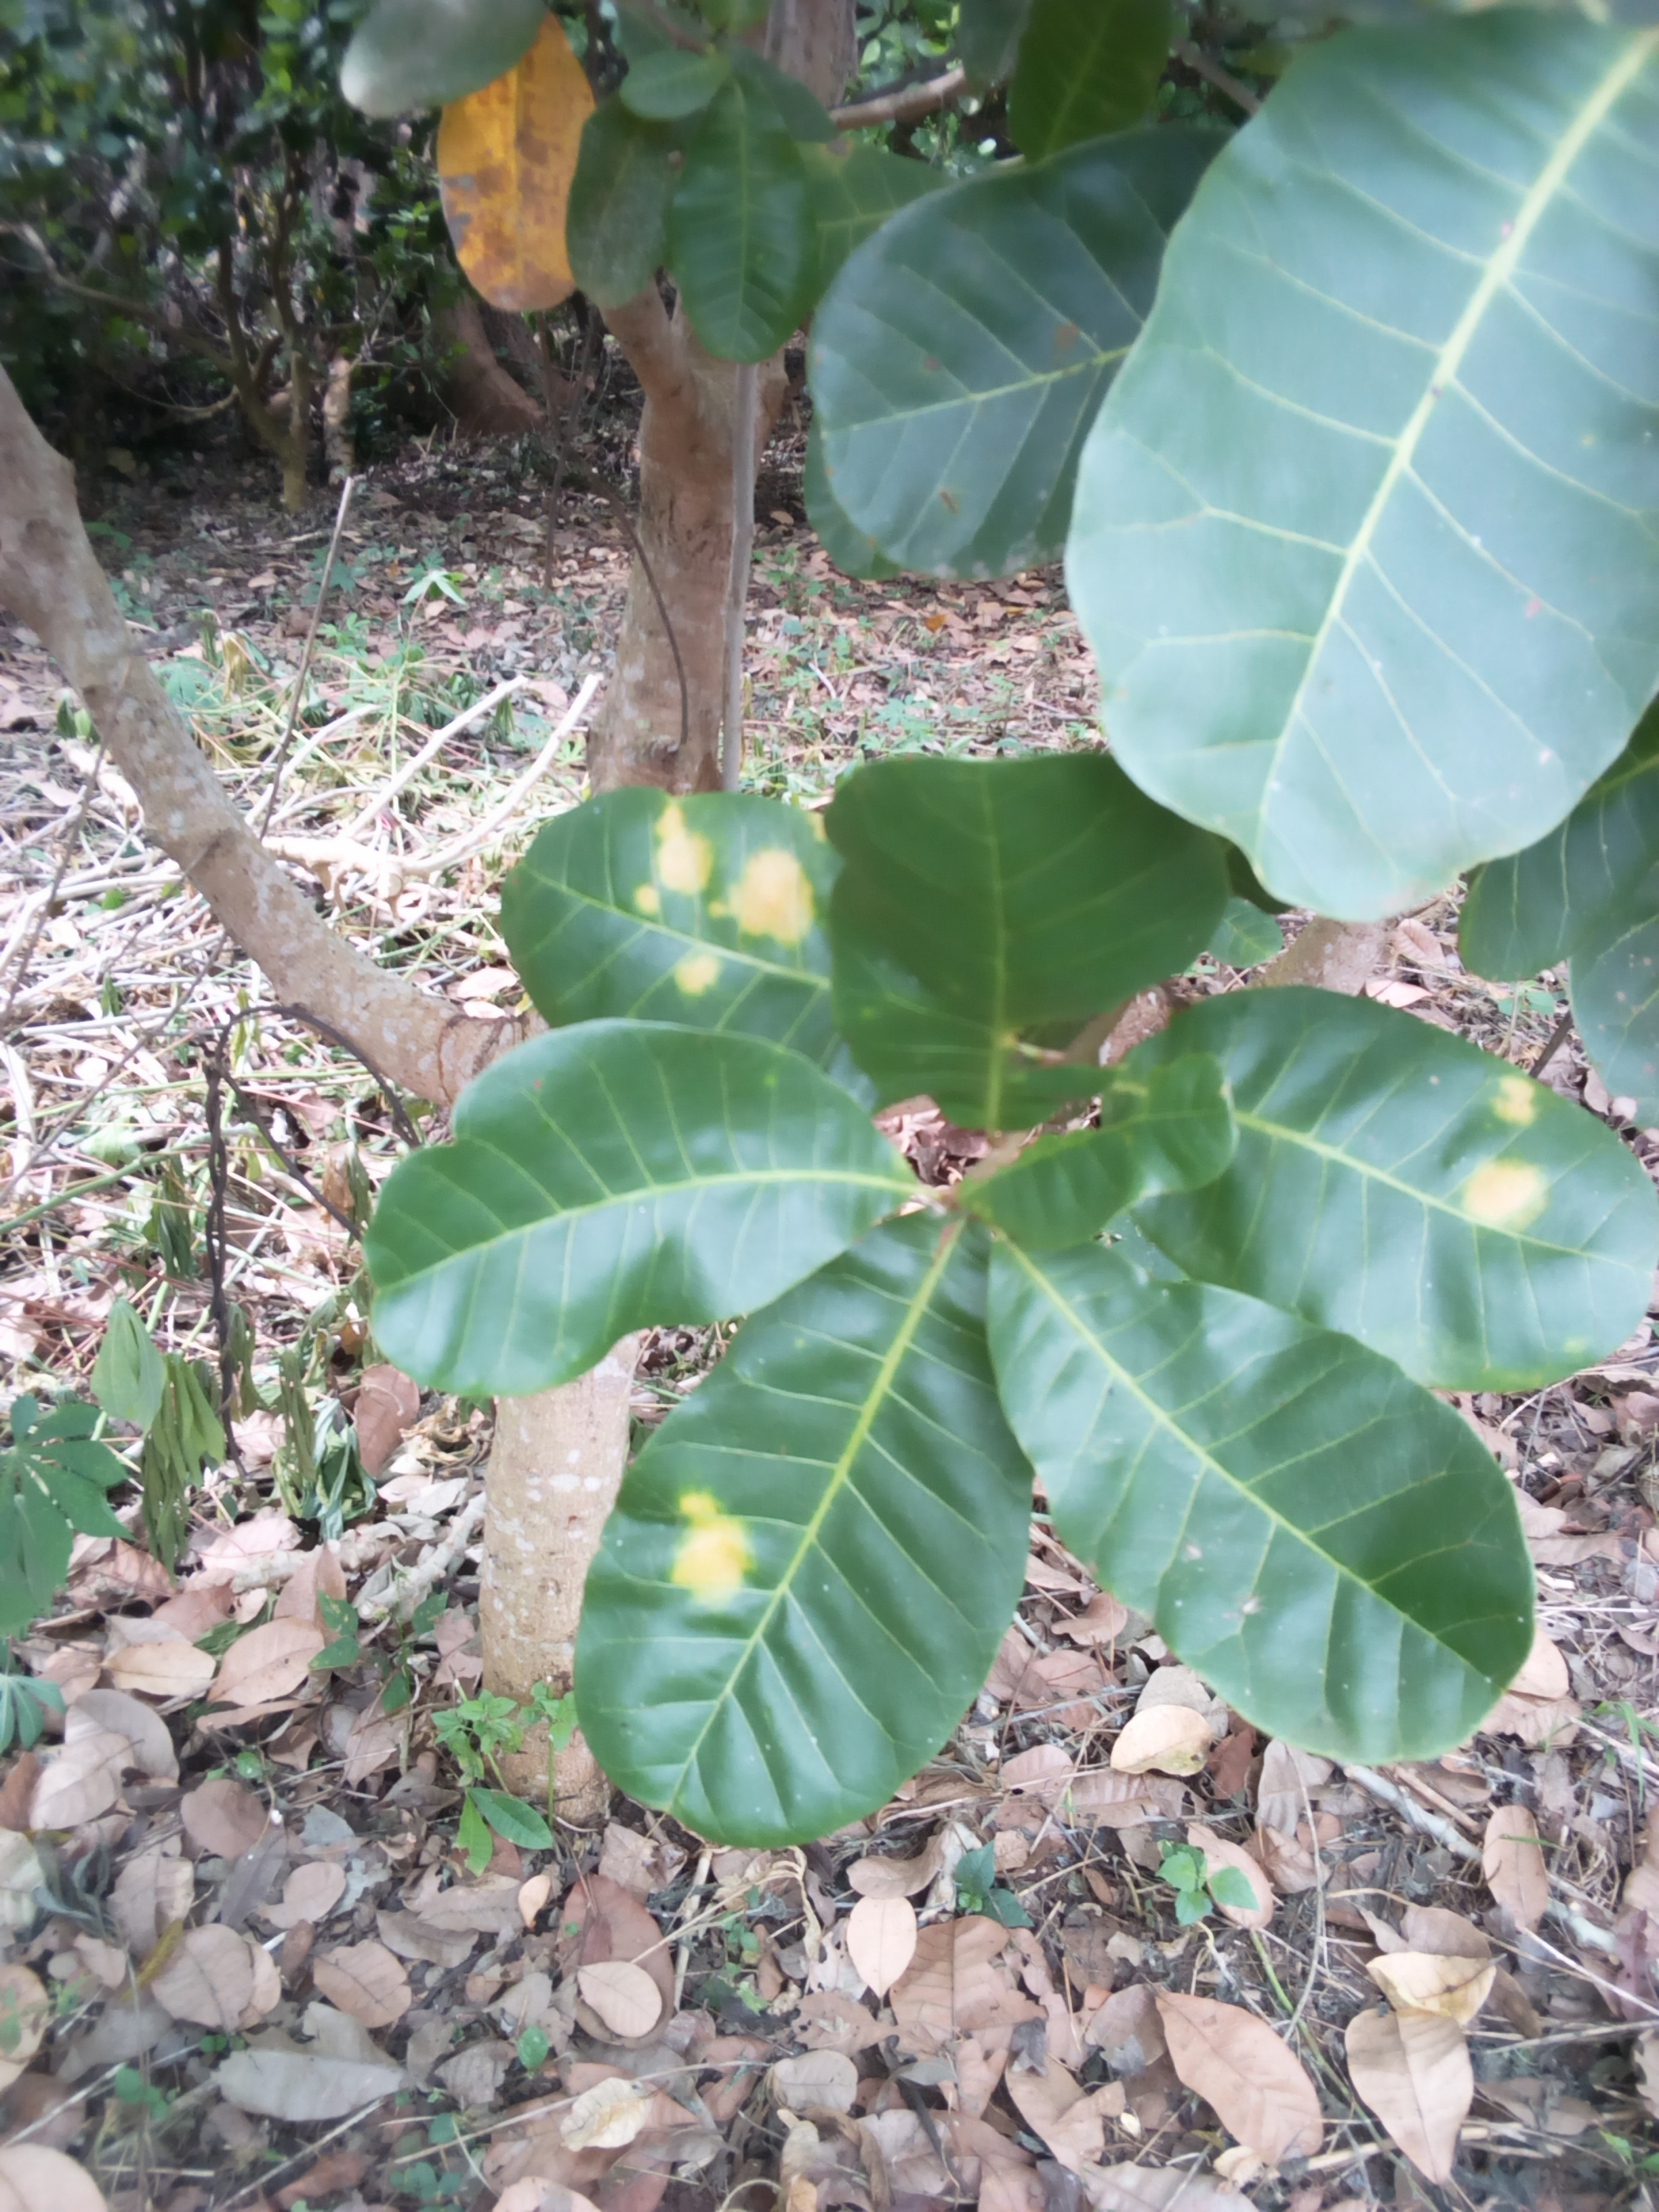Carence minérale: (568, 1207, 1091, 1892), (1121, 988, 1659, 1397), (488, 733, 887, 1073)
